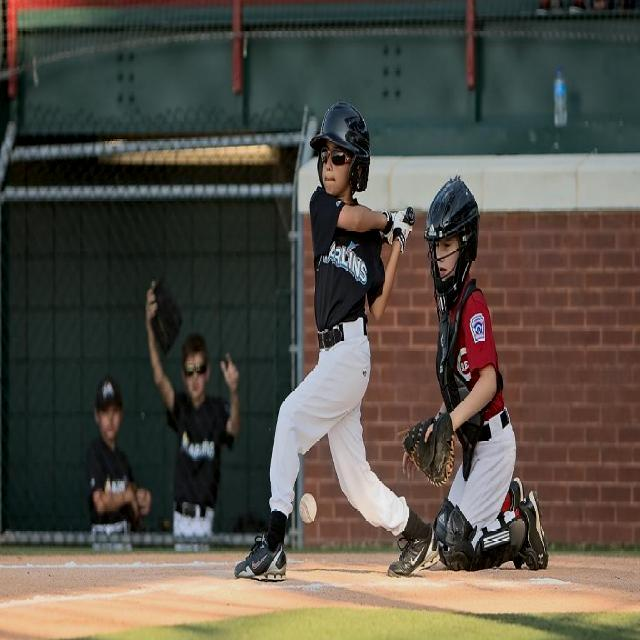ball: (296, 494, 322, 526)
